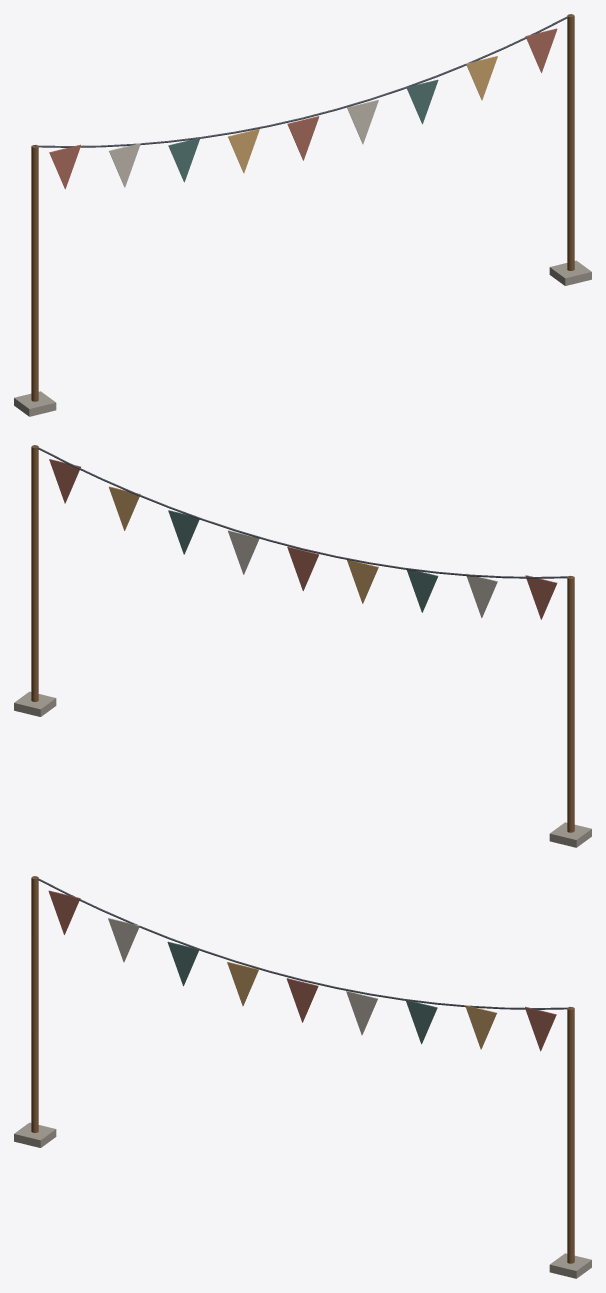
Rendered from komachi-bunting.glb.
3 renders of one model, top to bottom at view 1: azimuth 30°, elevation 25°; view 2: azimuth 150°, elevation 25°; view 3: azimuth 330°, elevation 25°, orthographic.
Visible parts, largest first — view 1: Poles_And_Cable, Pennants; view 2: Poles_And_Cable, Pennants; view 3: Poles_And_Cable, Pennants.
Part boxes in pixels (x1,y1,x2,y2): Poles_And_Cable: (14,14,591,416); Pennants: (49,28,557,189); Poles_And_Cable: (14,445,591,847); Pennants: (49,459,557,619); Poles_And_Cable: (14,876,591,1278); Pennants: (48,890,556,1051).
Bounding box in the file's own units: 1.89 × 0.8428 × 0.09.
